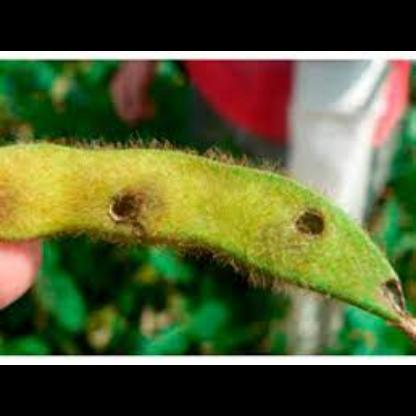agujero: (104, 184, 142, 230), (286, 204, 334, 238), (380, 274, 408, 316)
